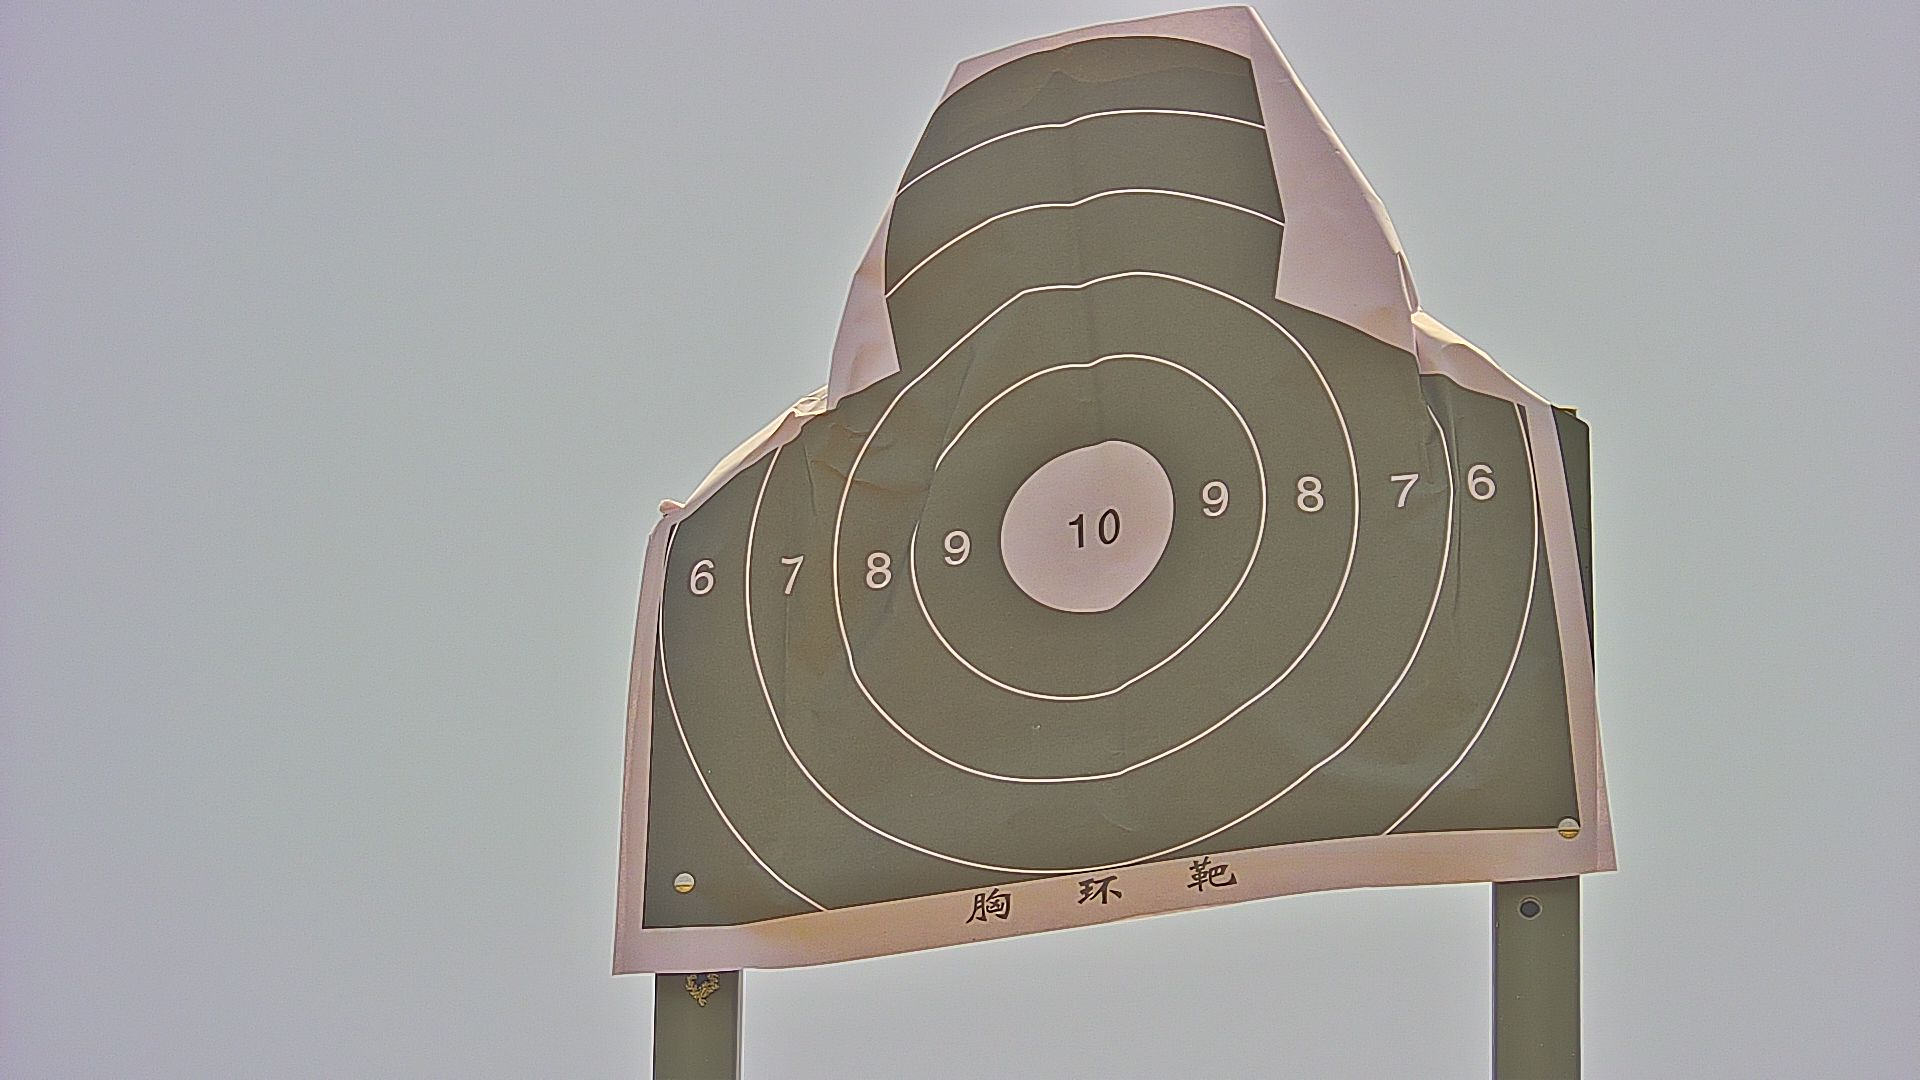kernel: (1092, 527, 1093, 534)
target: (642, 36, 1572, 916)
ten: (997, 442, 1179, 620)
